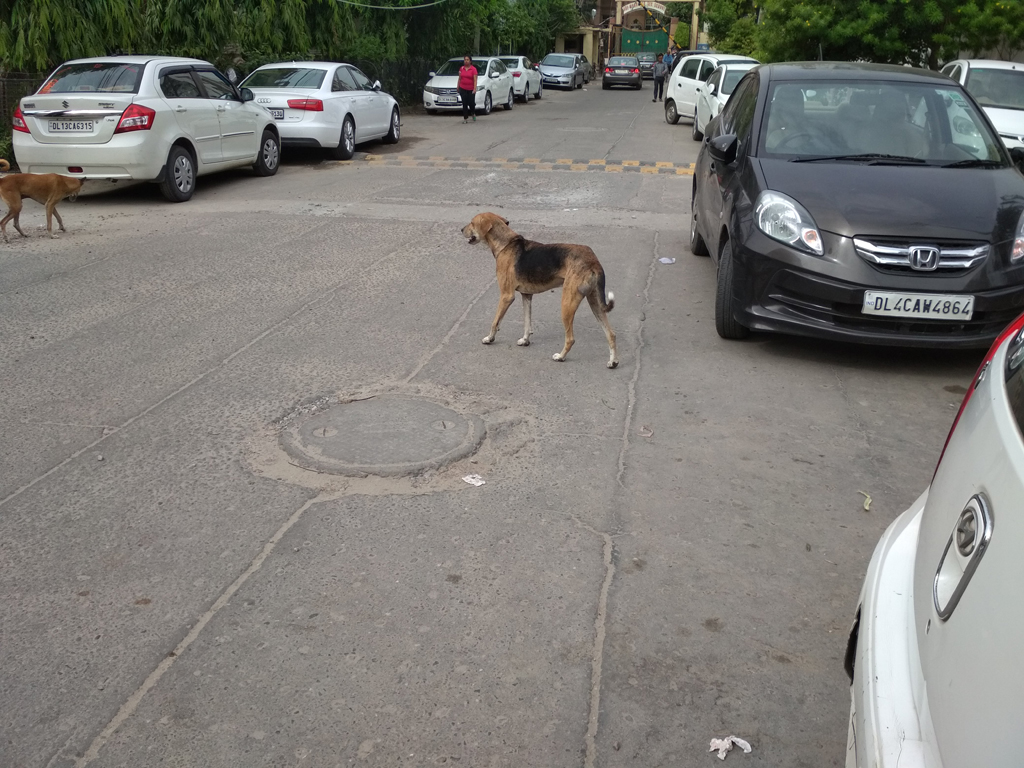dog: (461, 214, 616, 367), (1, 160, 87, 242)
